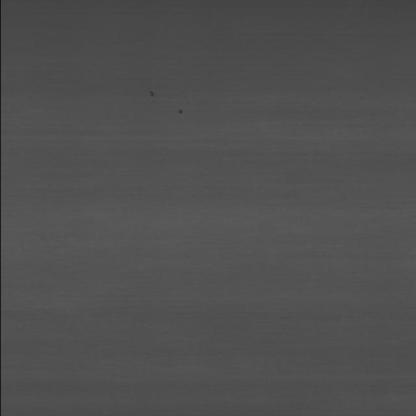inclusion: (158, 102, 192, 120), (133, 85, 165, 96)
